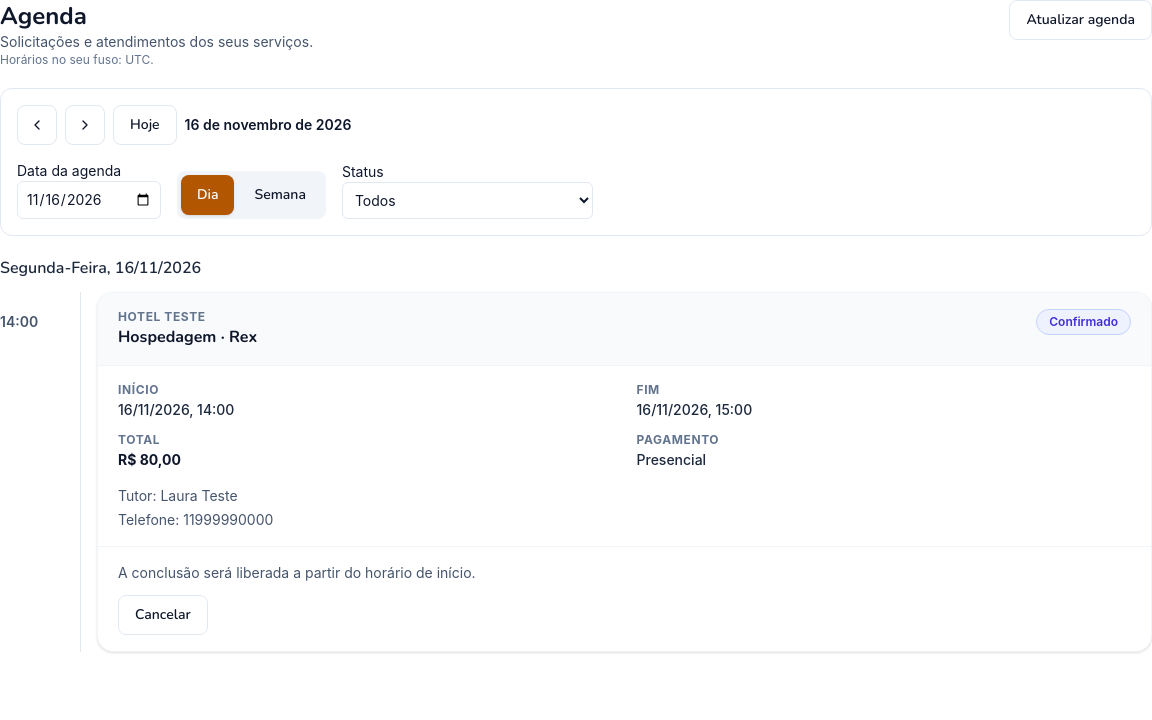
Test: confirmado futuro pode cancelar mas não concluir
Click the button "Cancelar" at {"x": 163, "y": 615}, box [118,595,208,635]
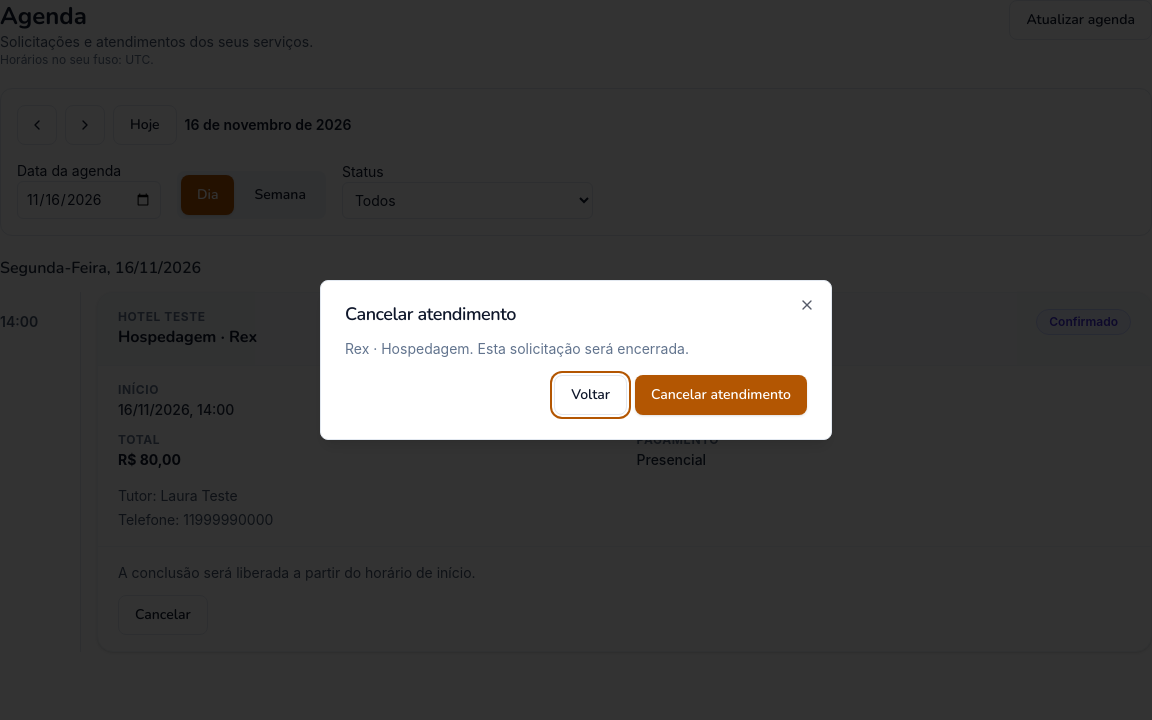
Click the button "Cancelar atendimento" at {"x": 721, "y": 395}, box [635,375,807,415]
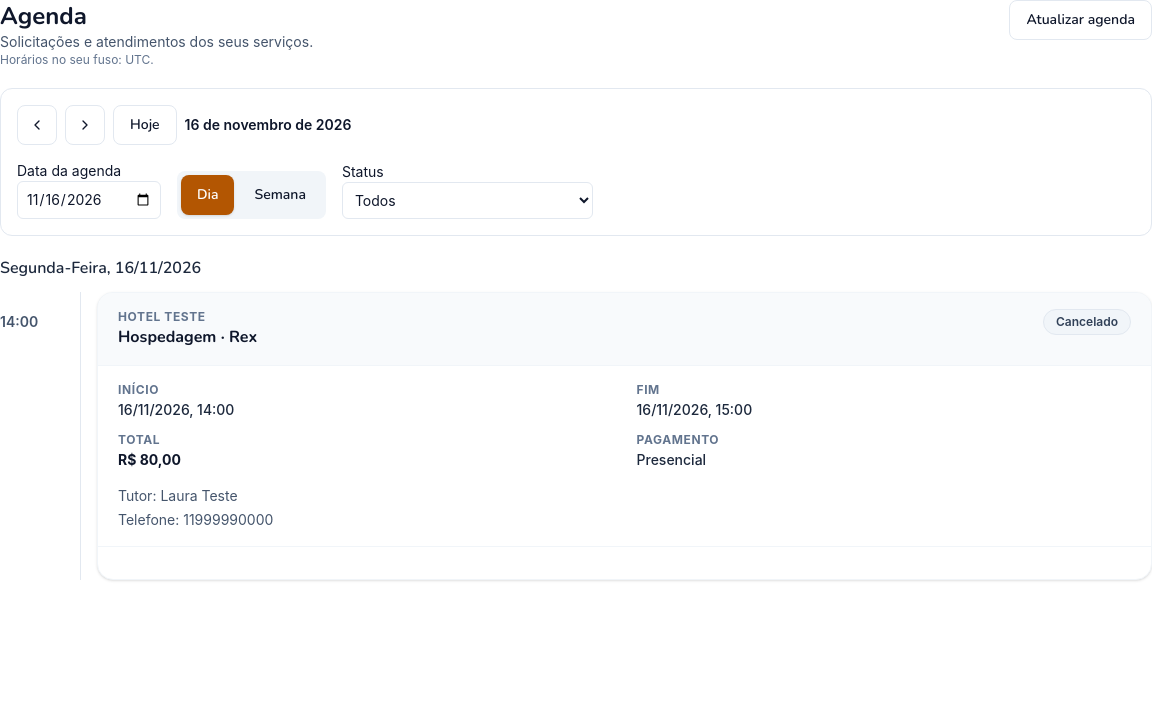
Now the text "Cancelado" is shown, box [1043,309,1131,335]
